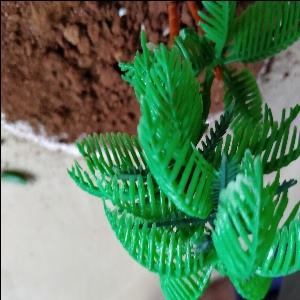plant: (85, 12, 292, 300)
